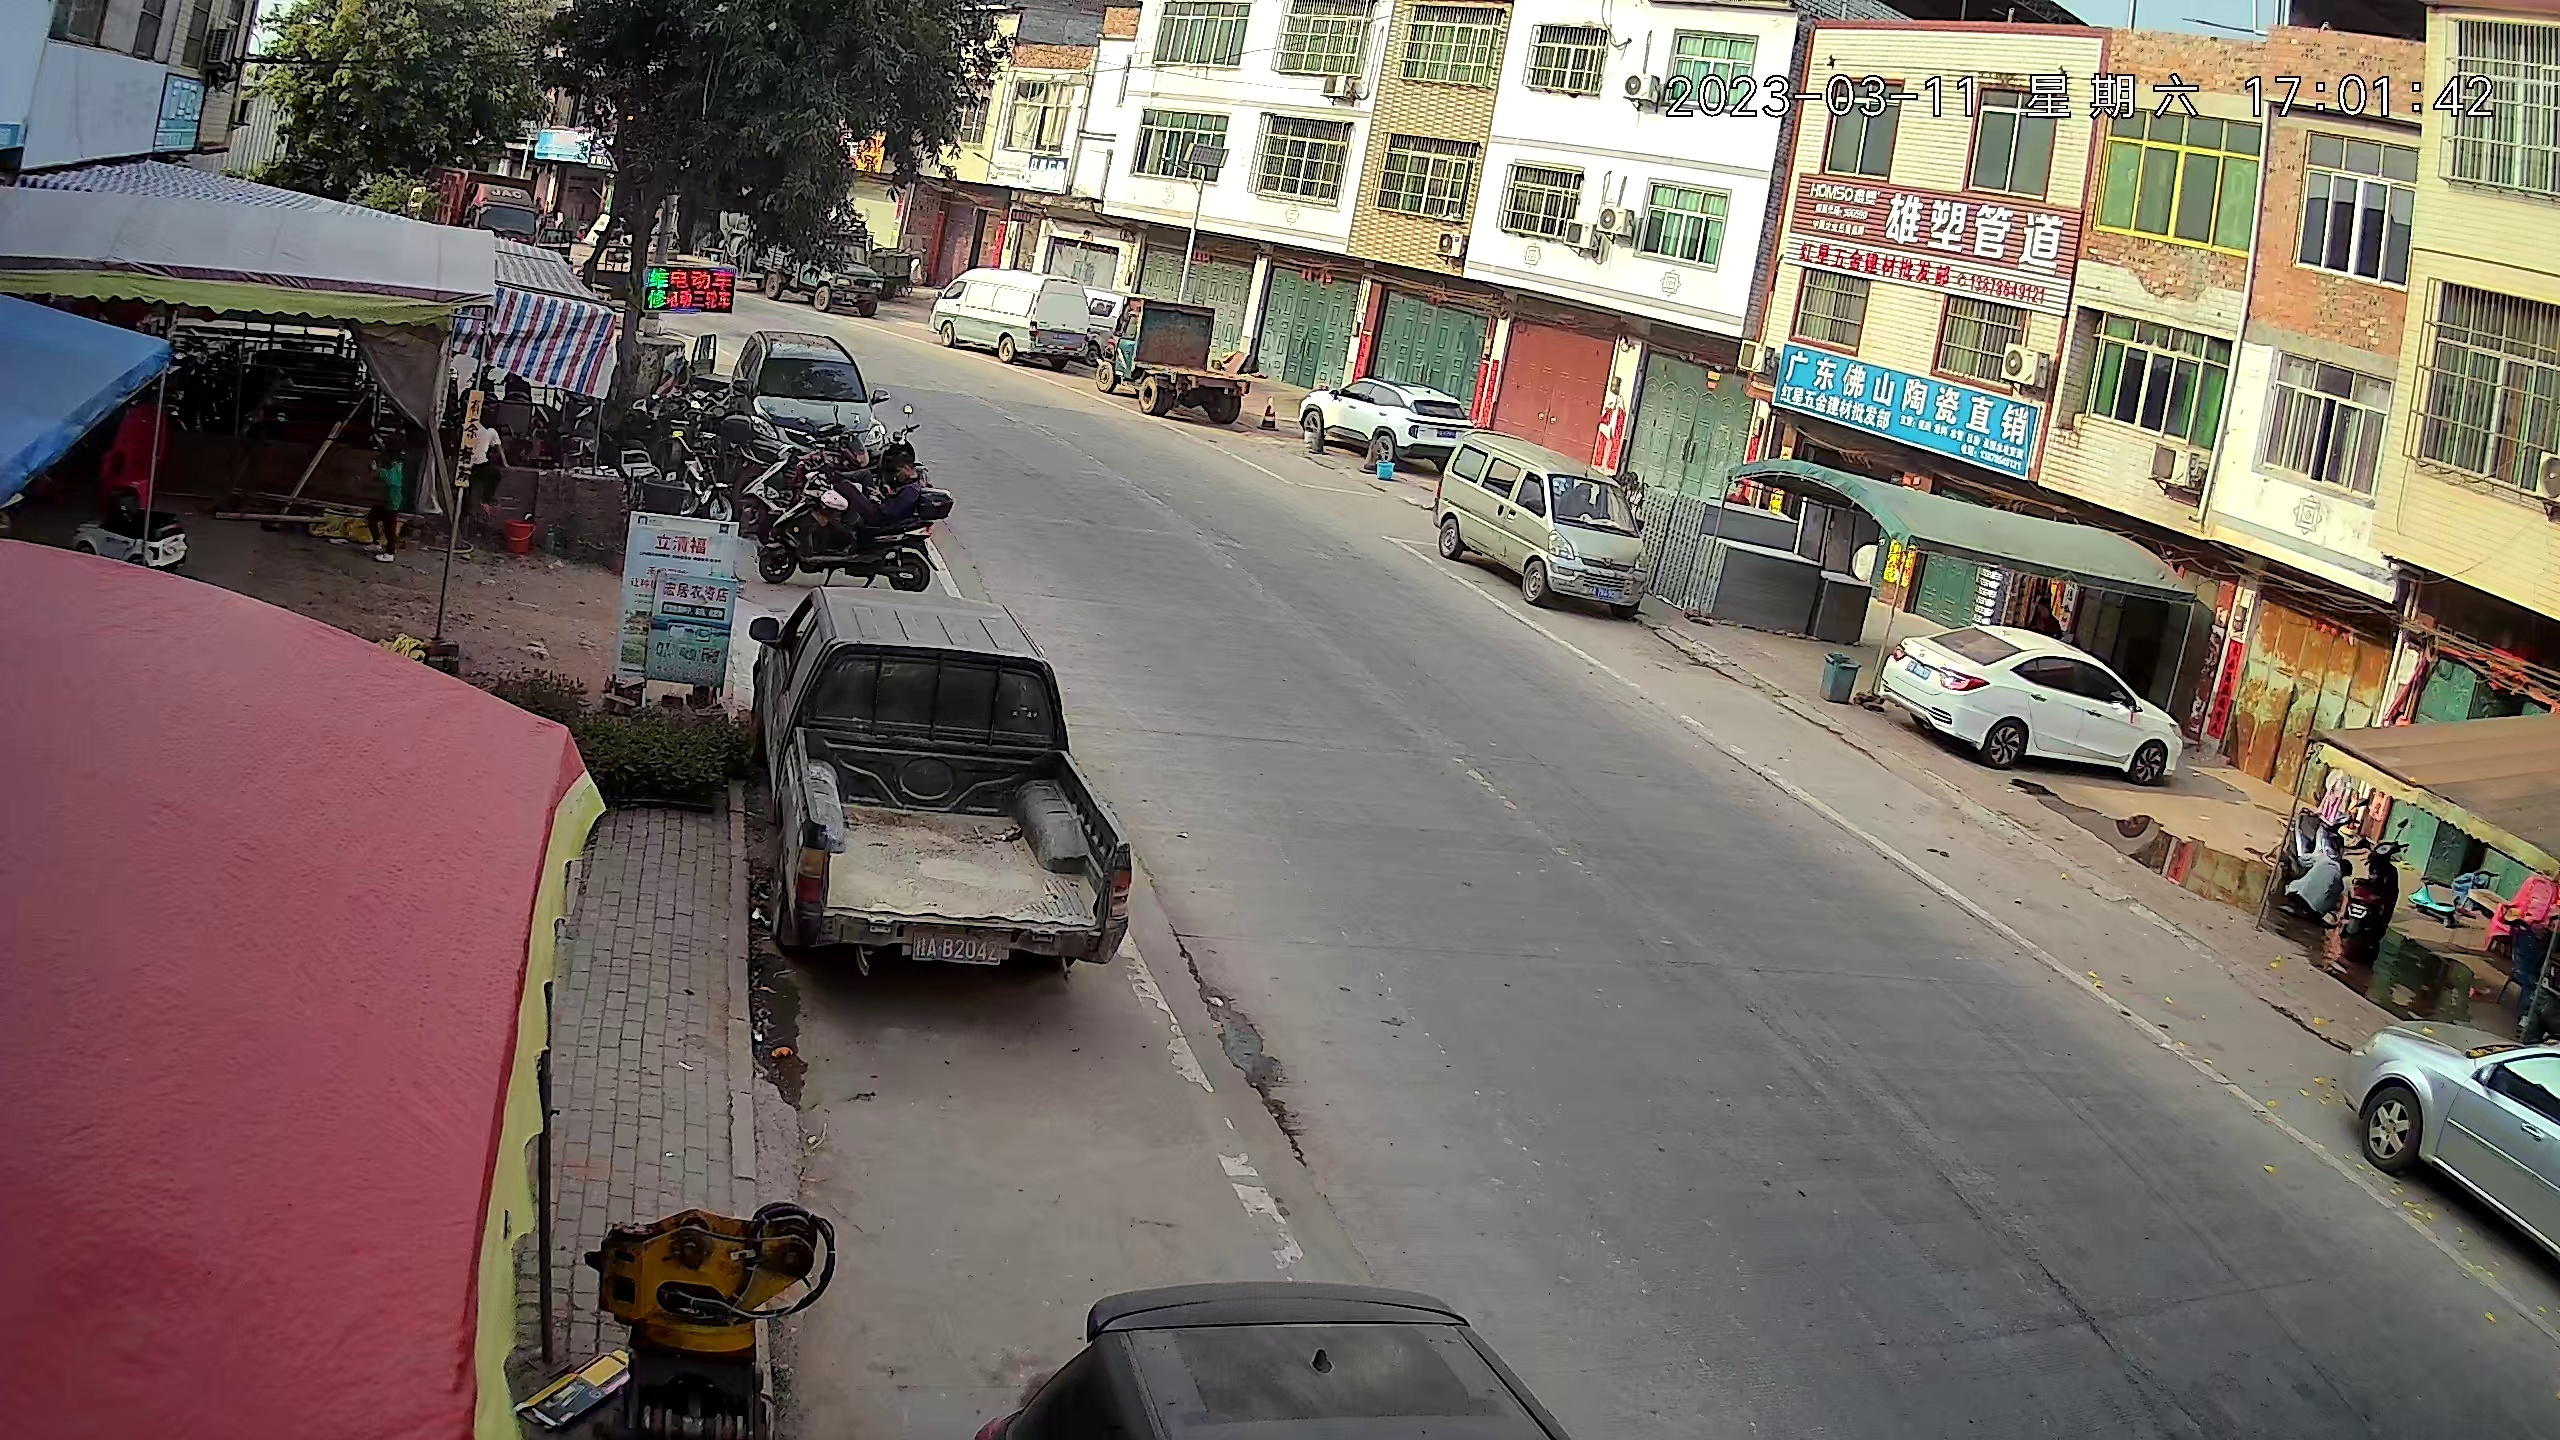motorcycle: (764, 478, 932, 570), (2353, 825, 2400, 963)
person: (363, 424, 410, 568), (2302, 838, 2340, 935)
pickup: (750, 575, 1133, 987)
sedan: (964, 1282, 1565, 1440), (2352, 1003, 2560, 1262), (1887, 623, 2185, 779)
suv: (734, 324, 889, 445), (1300, 370, 1465, 463)
tricycle: (1107, 289, 1247, 420)
truck: (930, 265, 1093, 374), (737, 223, 880, 319), (433, 167, 548, 248)
van: (1433, 425, 1653, 623)
